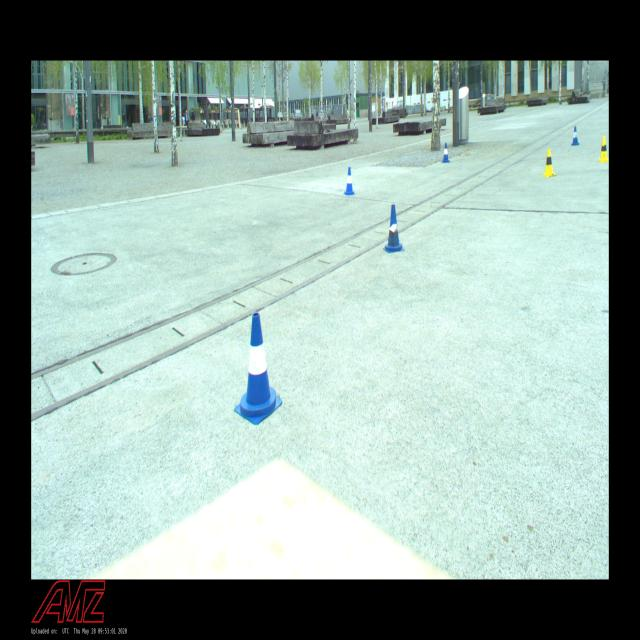blue_cone: (233, 314, 283, 424), (384, 204, 404, 253), (342, 167, 356, 196), (441, 142, 451, 163), (570, 126, 580, 146)
yellow_cone: (541, 148, 557, 178), (598, 136, 608, 162)
